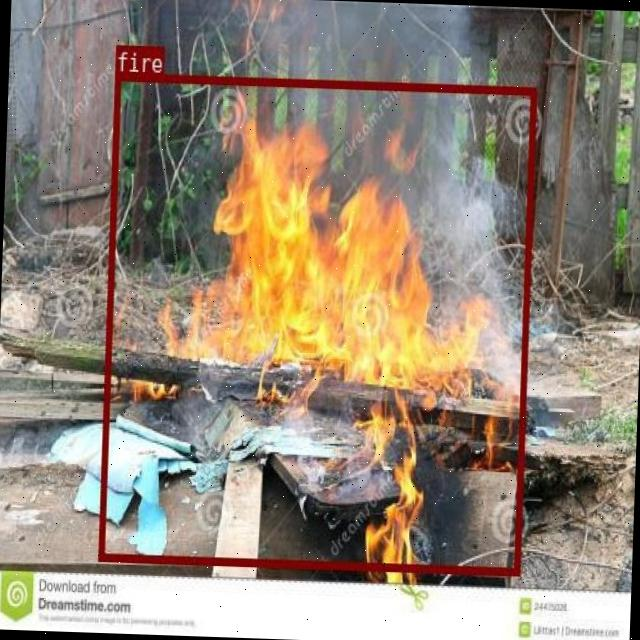fire: (97, 72, 534, 574)
